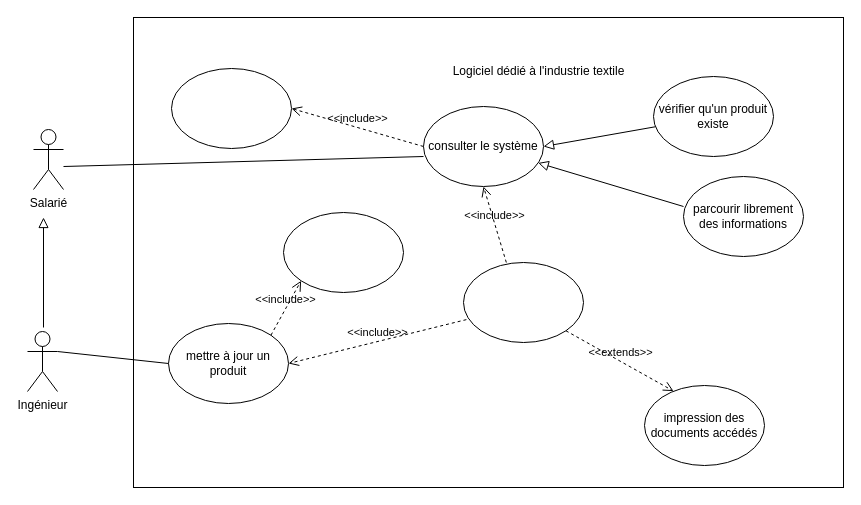
This 861x505 diagram has some shape labels left out. The shapes that lost their labels are listed below. From the top down, each one's box as (x1, y1, x2, y2) in pixels, then its label:
(170, 68, 292, 148): s'identifier avec nom et service
(282, 212, 404, 292): s'identifier avec un mot de passe
(462, 262, 584, 342): enregistrer dans le journal des accès
